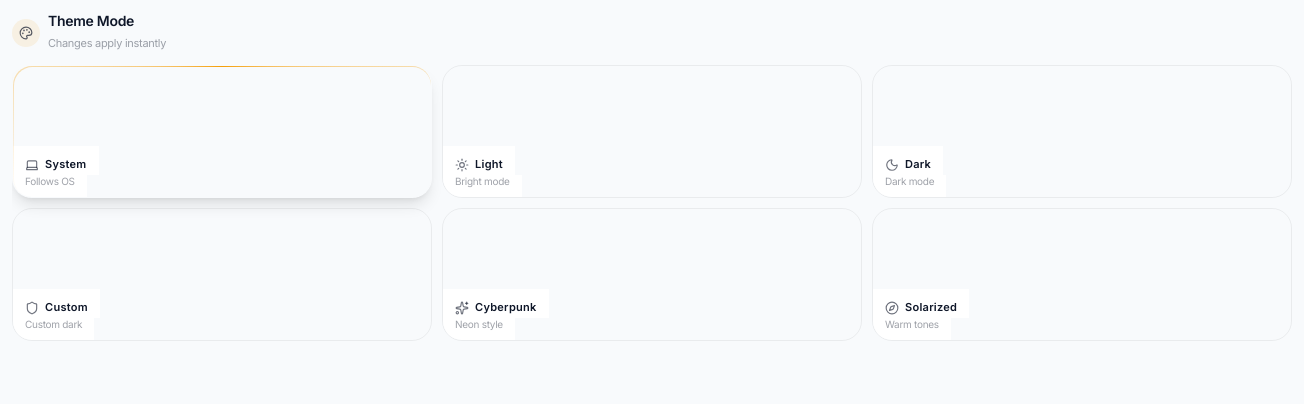
Test: ThemeModeSelector › shows status feedback after selection
Click the text "Dark" at coordinates (918, 165), box [905,156,931,173]
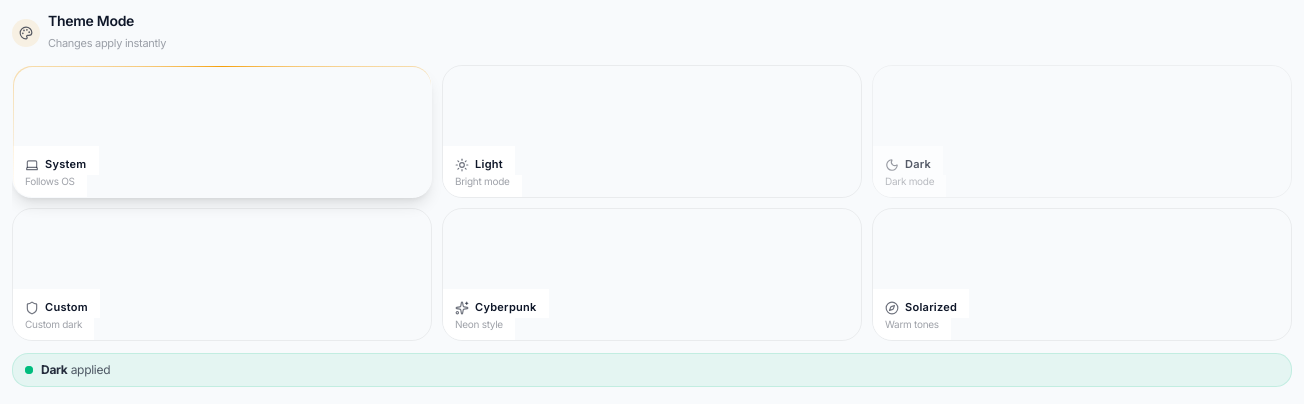
Expected: the text "applied" is shown, [71,362,110,377]
